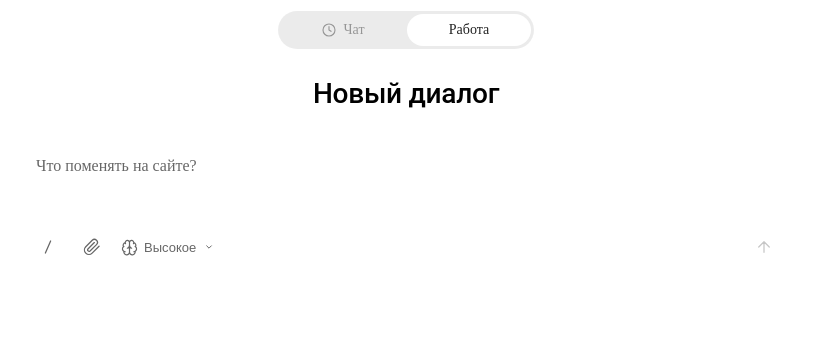
Test: new dialog › says a refusal of the server in its words
The image size is (823, 340).
Type "пароль: hunter2" into the text box named "Сообщение".
click(416, 183); type("пароль: hunter2")  # box [26, 145, 806, 221]
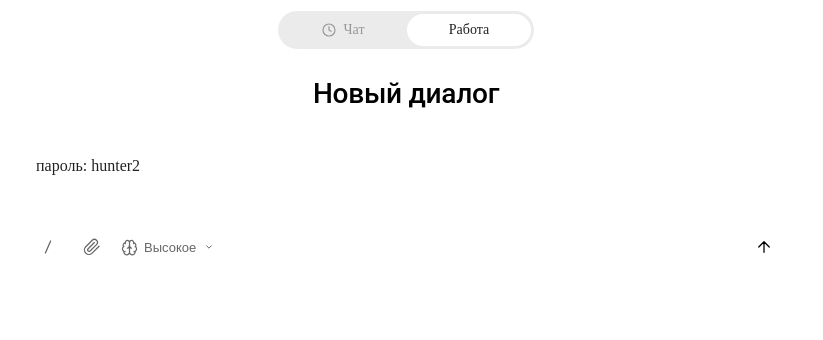
Click the button named "Отправить".
click(764, 247)  # box [742, 225, 786, 269]
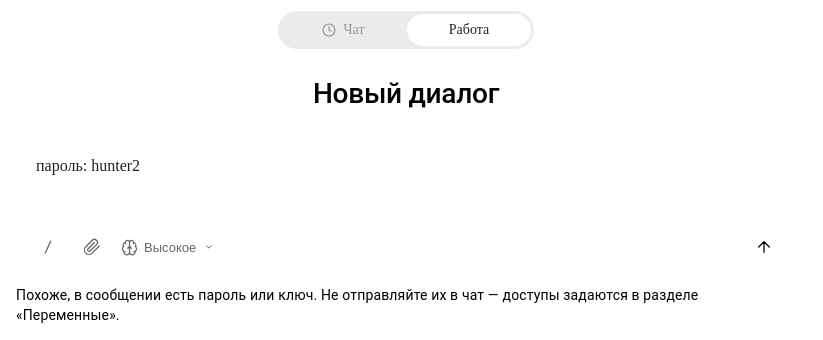
expect the message shows "Похоже, в сообщении есть пароль или ключ. Не отправляйте их в чат — доступы задаются в разделе «Переменные».": met, box [16, 287, 698, 323]
